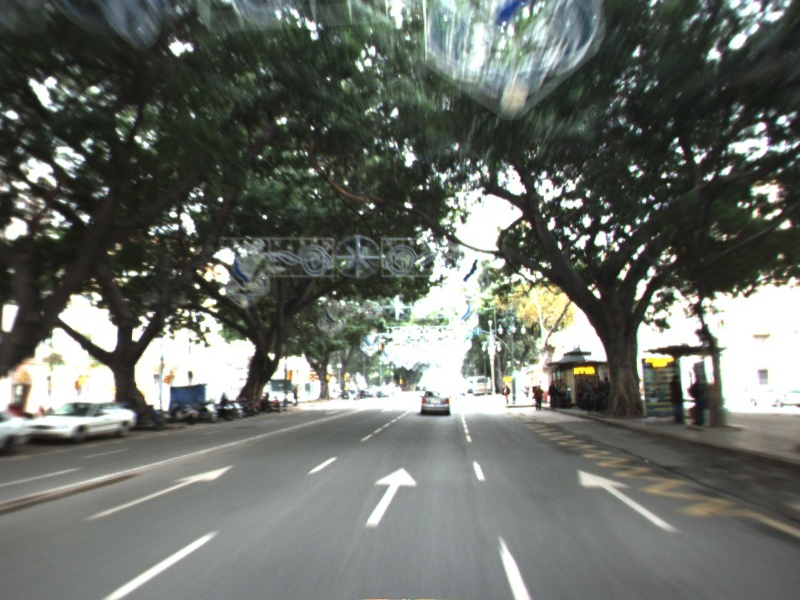STRAIGHT: (81, 463, 237, 523), (576, 468, 685, 535), (361, 465, 419, 529)
